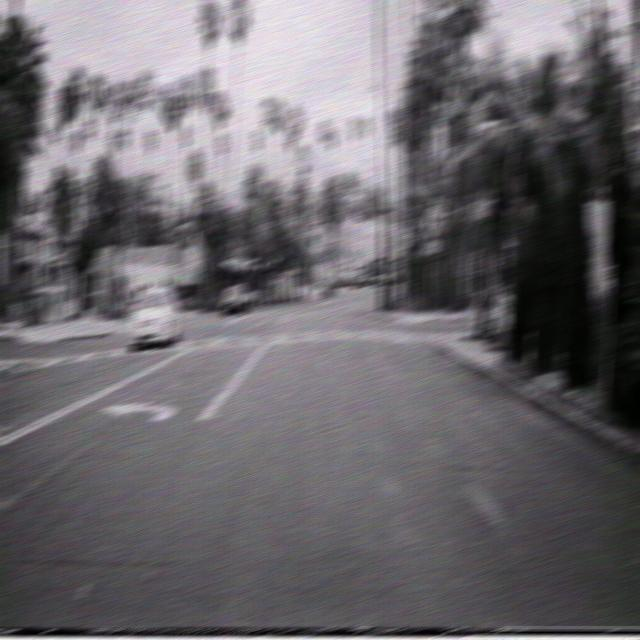pedestrianCrossing: (422, 205, 442, 239)
speedLimit25: (396, 226, 410, 248)
